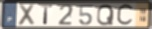2: (57, 4, 75, 26)
5: (78, 4, 94, 27)
C: (116, 3, 136, 28)
Q: (96, 4, 116, 27)
T: (40, 5, 54, 26)
X: (17, 3, 36, 27)
